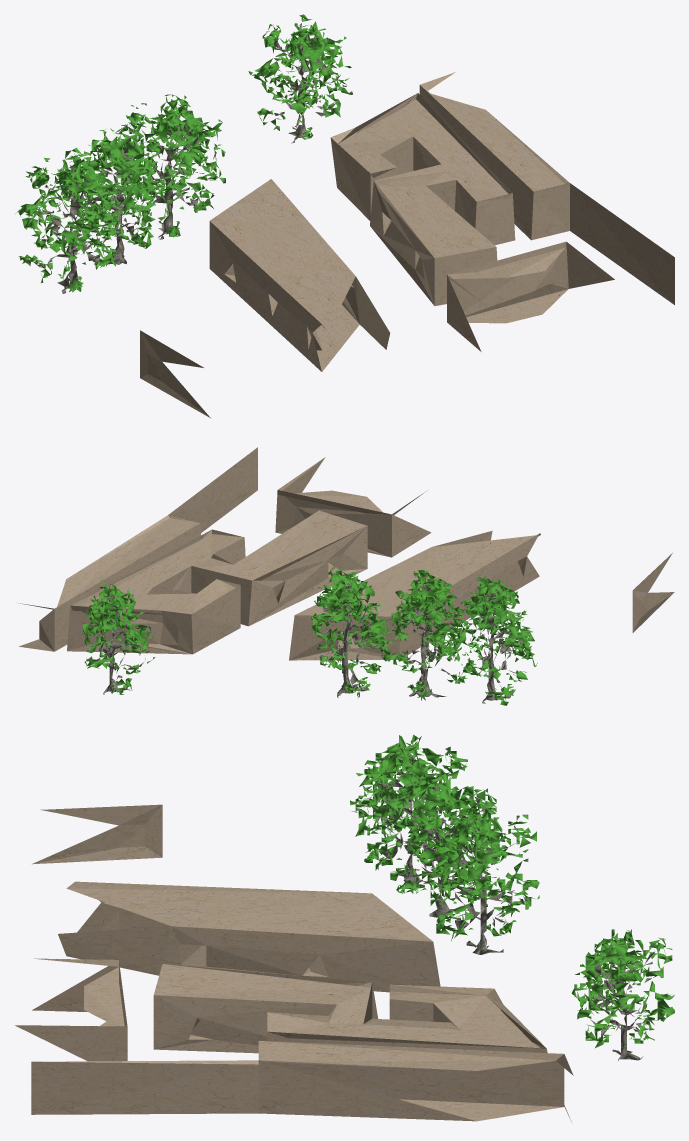
The model's file is tile_0_1.gltf.
The picture shows the model from 3 angles, top to bottom: view 1: azimuth 30°, elevation 25°; view 2: azimuth 150°, elevation 25°; view 3: azimuth 270°, elevation 25°; orthographic projection. The views are drawn at different scales.
Parts seen in each view (by area): view 1: Plane.011@tile_0_1, Bodhi Tree_Bodhi_front_2_Mat_0.044@tile_0_1; view 2: Plane.011@tile_0_1, Bodhi Tree_Bodhi_front_2_Mat_0.044@tile_0_1; view 3: Plane.011@tile_0_1, Bodhi Tree_Bodhi_front_2_Mat_0.044@tile_0_1.
Boxes of the visible parts, bbox=[...] form: Plane.011@tile_0_1: bbox=[140, 72, 674, 418]; Bodhi Tree_Bodhi_front_2_Mat_0.044@tile_0_1: bbox=[15, 14, 352, 293]; Plane.011@tile_0_1: bbox=[18, 447, 674, 660]; Bodhi Tree_Bodhi_front_2_Mat_0.044@tile_0_1: bbox=[82, 566, 537, 705]; Plane.011@tile_0_1: bbox=[15, 804, 573, 1123]; Bodhi Tree_Bodhi_front_2_Mat_0.044@tile_0_1: bbox=[350, 734, 674, 1060].
Size of the model in its own units: 67.35 by 17.15 by 68.12.
3 materials, 2 textured.
